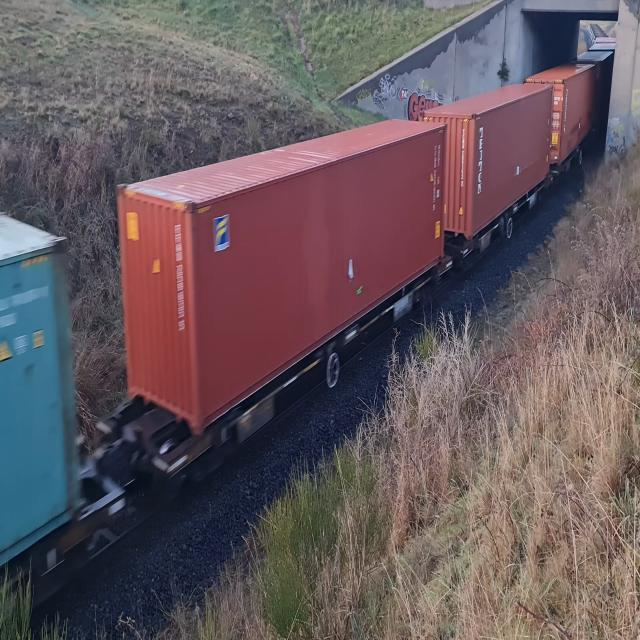container: (113, 108, 451, 483), (0, 199, 83, 617), (420, 76, 564, 265)
